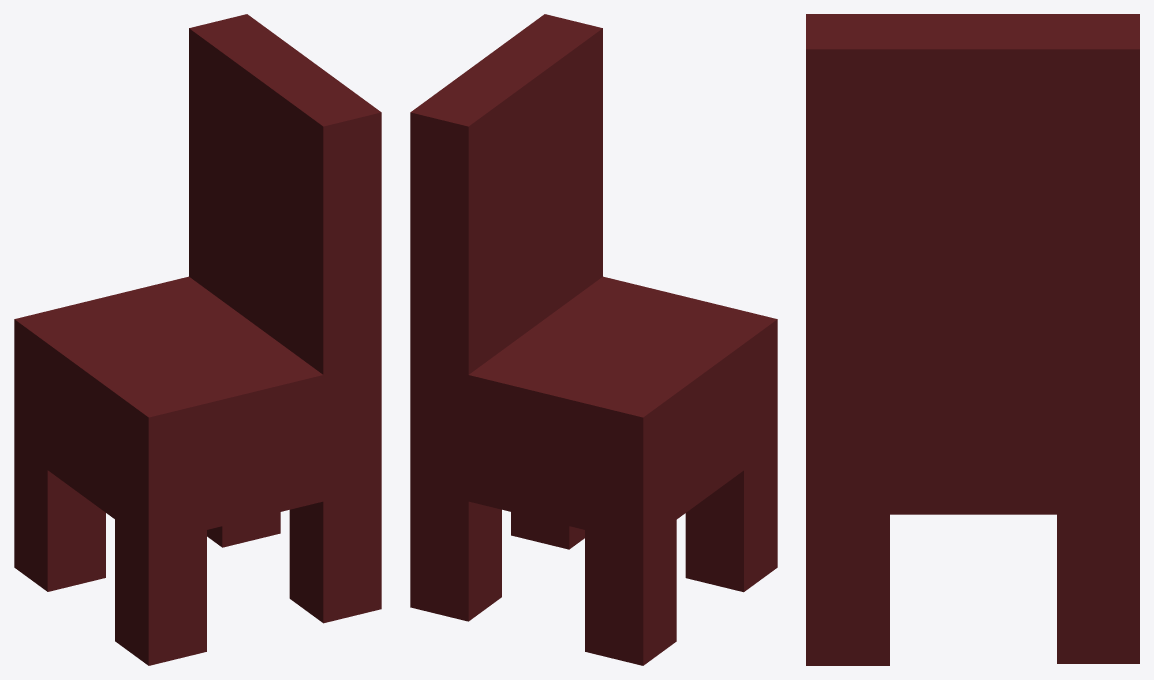
File: chair.fbx
3 renders of one model, left to right at view 1: azimuth 30°, elevation 25°; view 2: azimuth 150°, elevation 25°; view 3: azimuth 270°, elevation 25°, orthographic. The views are drawn at different scales.
Visible parts, largest first — view 1: Cube; view 2: Cube; view 3: Cube.
Boxes of the visible parts, x1,y1,x2,y2 form: Cube: [14, 14, 381, 665]; Cube: [410, 14, 777, 665]; Cube: [806, 14, 1139, 665].
Bounding box in the file's own units: 202 × 412 × 202.
